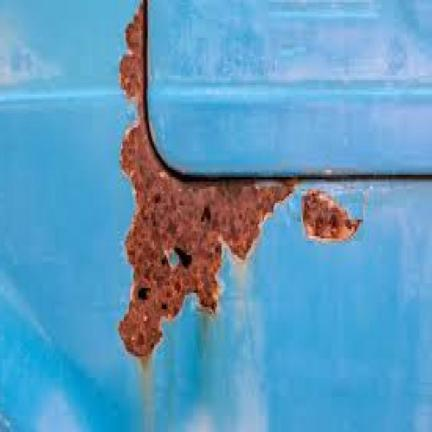besi_tidak_karat: (0, 2, 431, 430), (147, 0, 431, 176), (0, 0, 136, 100)
karat: (119, 0, 294, 357), (302, 189, 362, 242)
